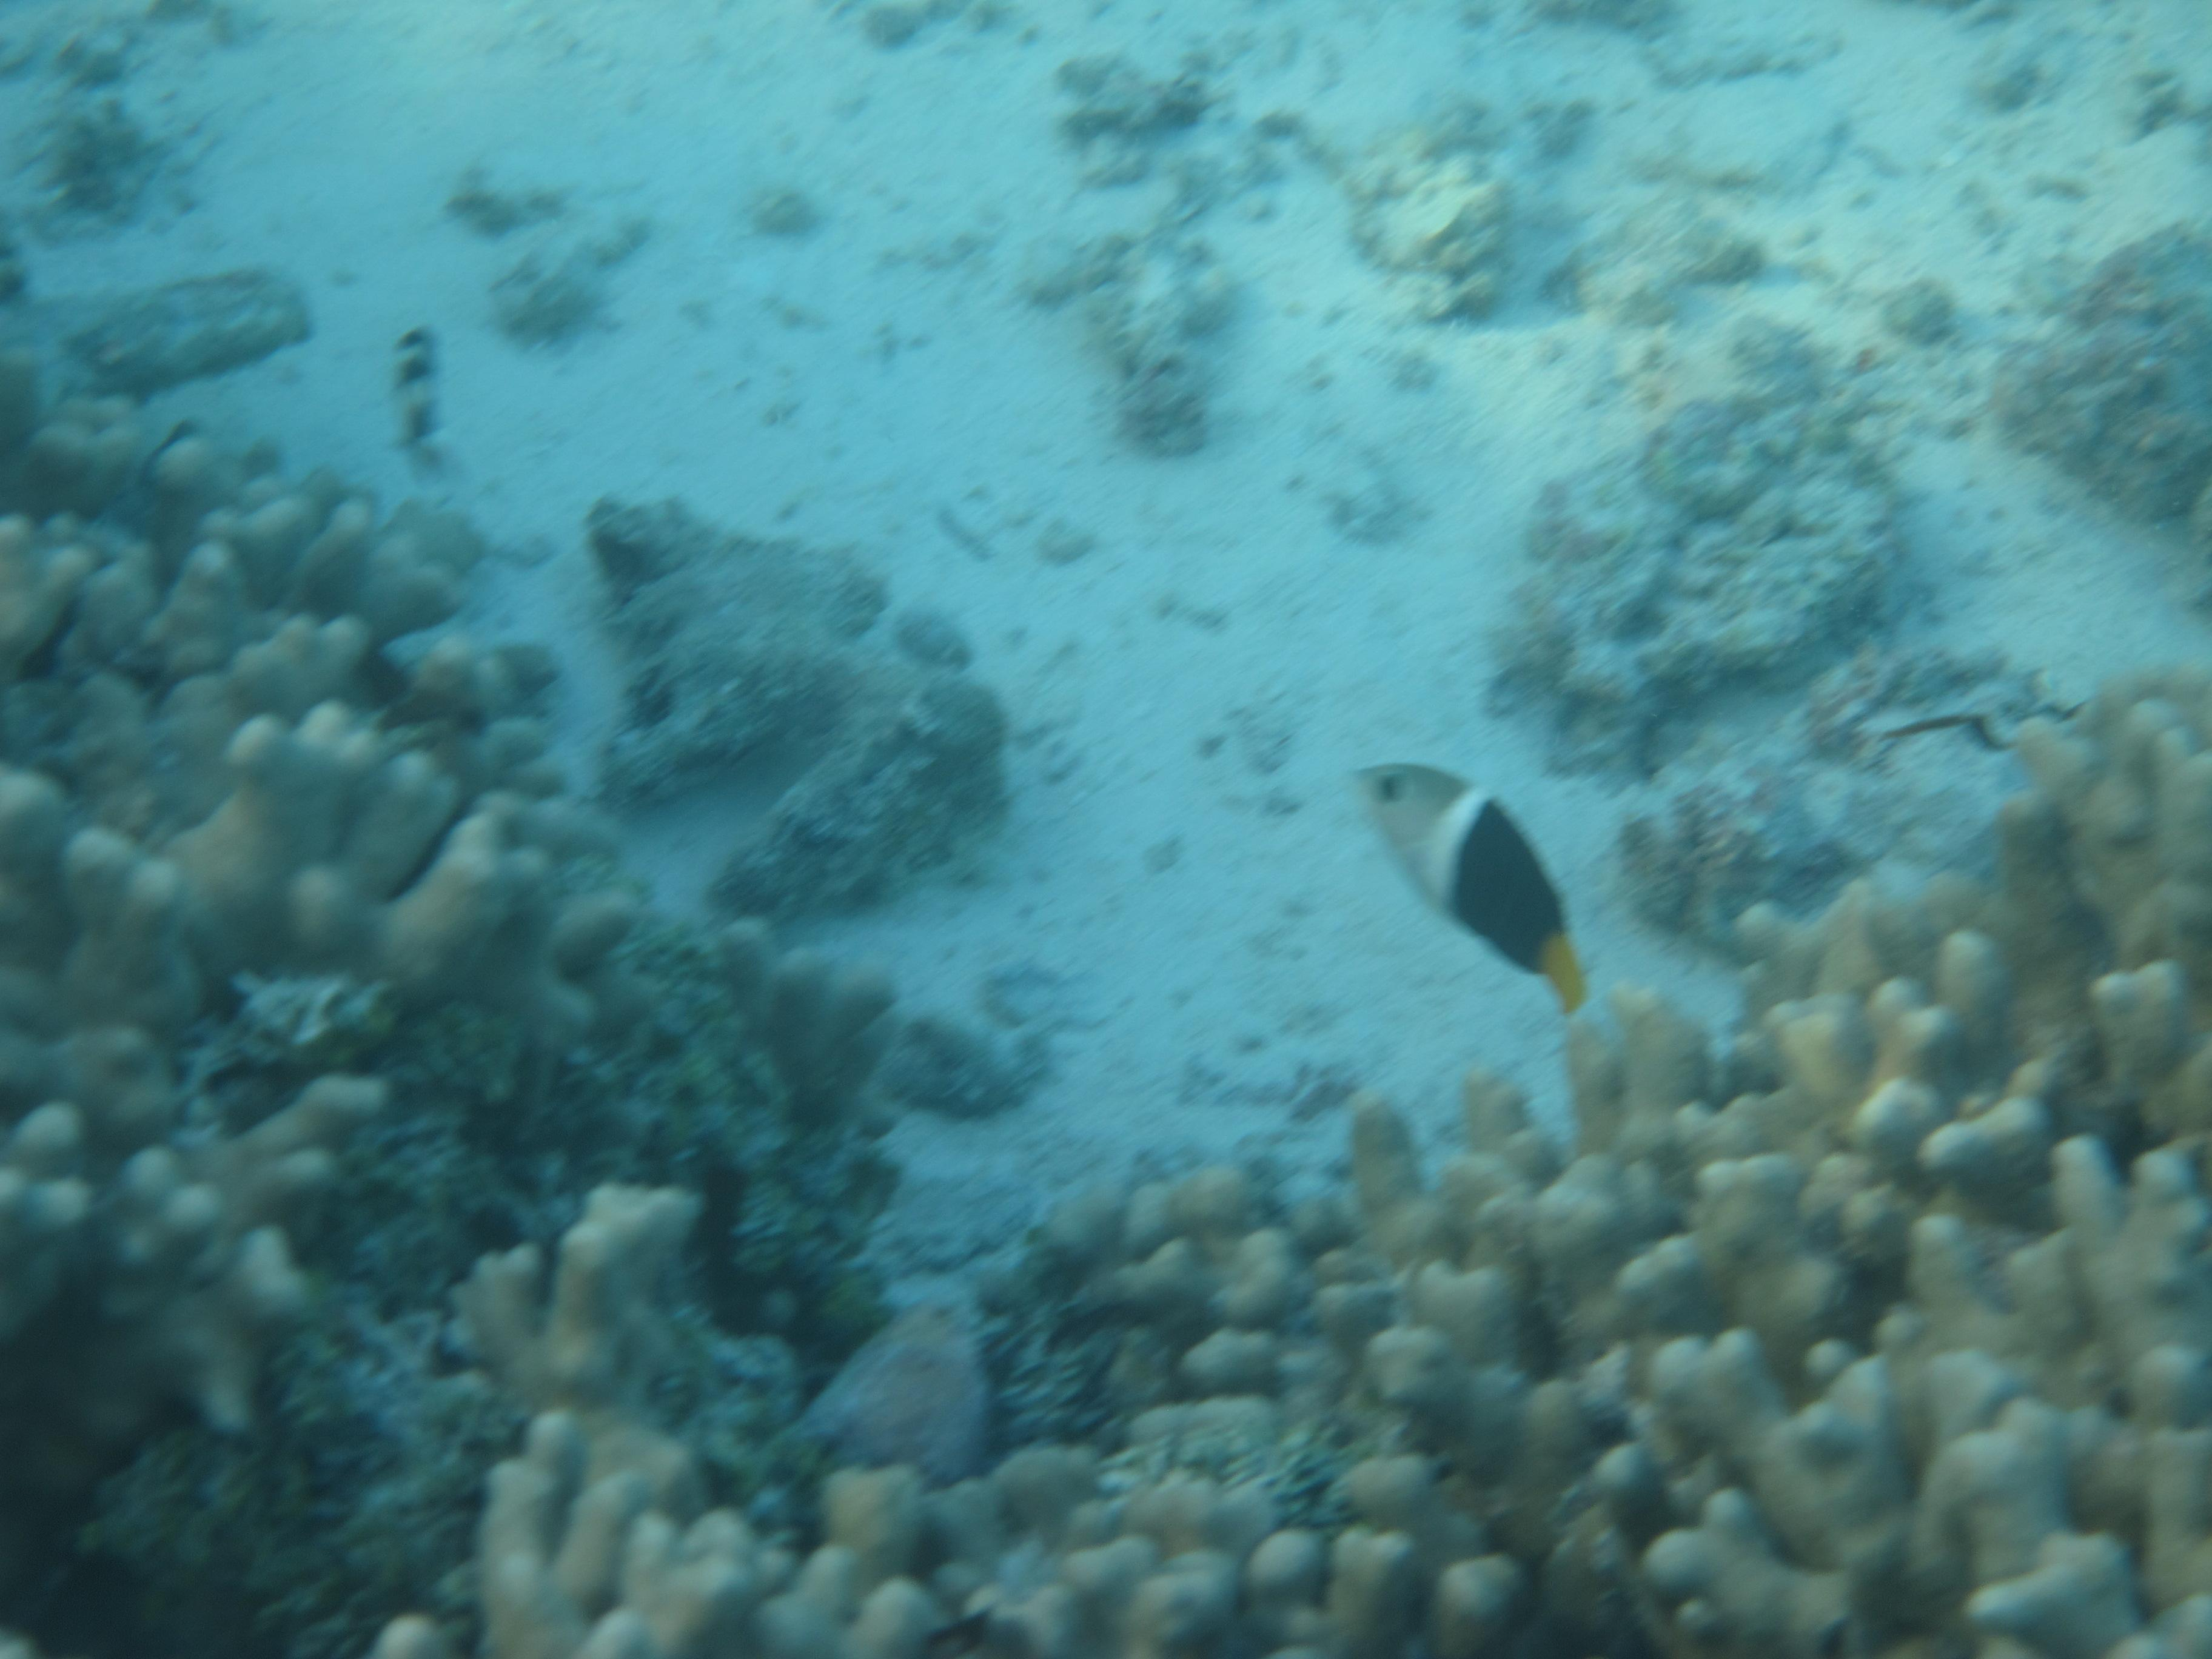Fish: (1331, 713, 1622, 1033)
